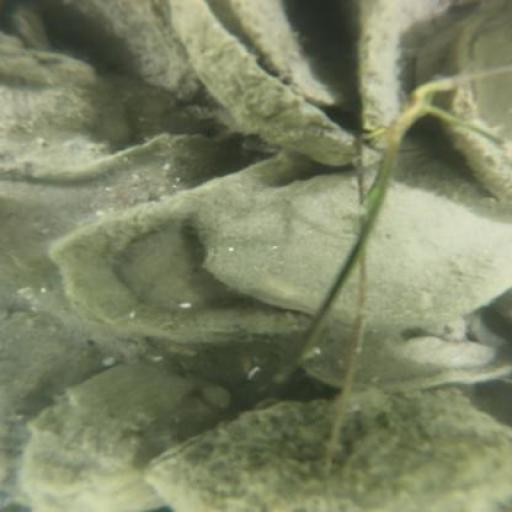Oyster-Closed: (134, 390, 510, 512), (15, 361, 241, 512), (364, 190, 508, 341), (202, 174, 357, 307), (36, 1, 201, 110), (4, 37, 120, 169), (224, 3, 350, 113), (278, 335, 511, 393)
